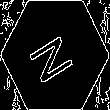N_NE: (27, 25, 83, 85)
